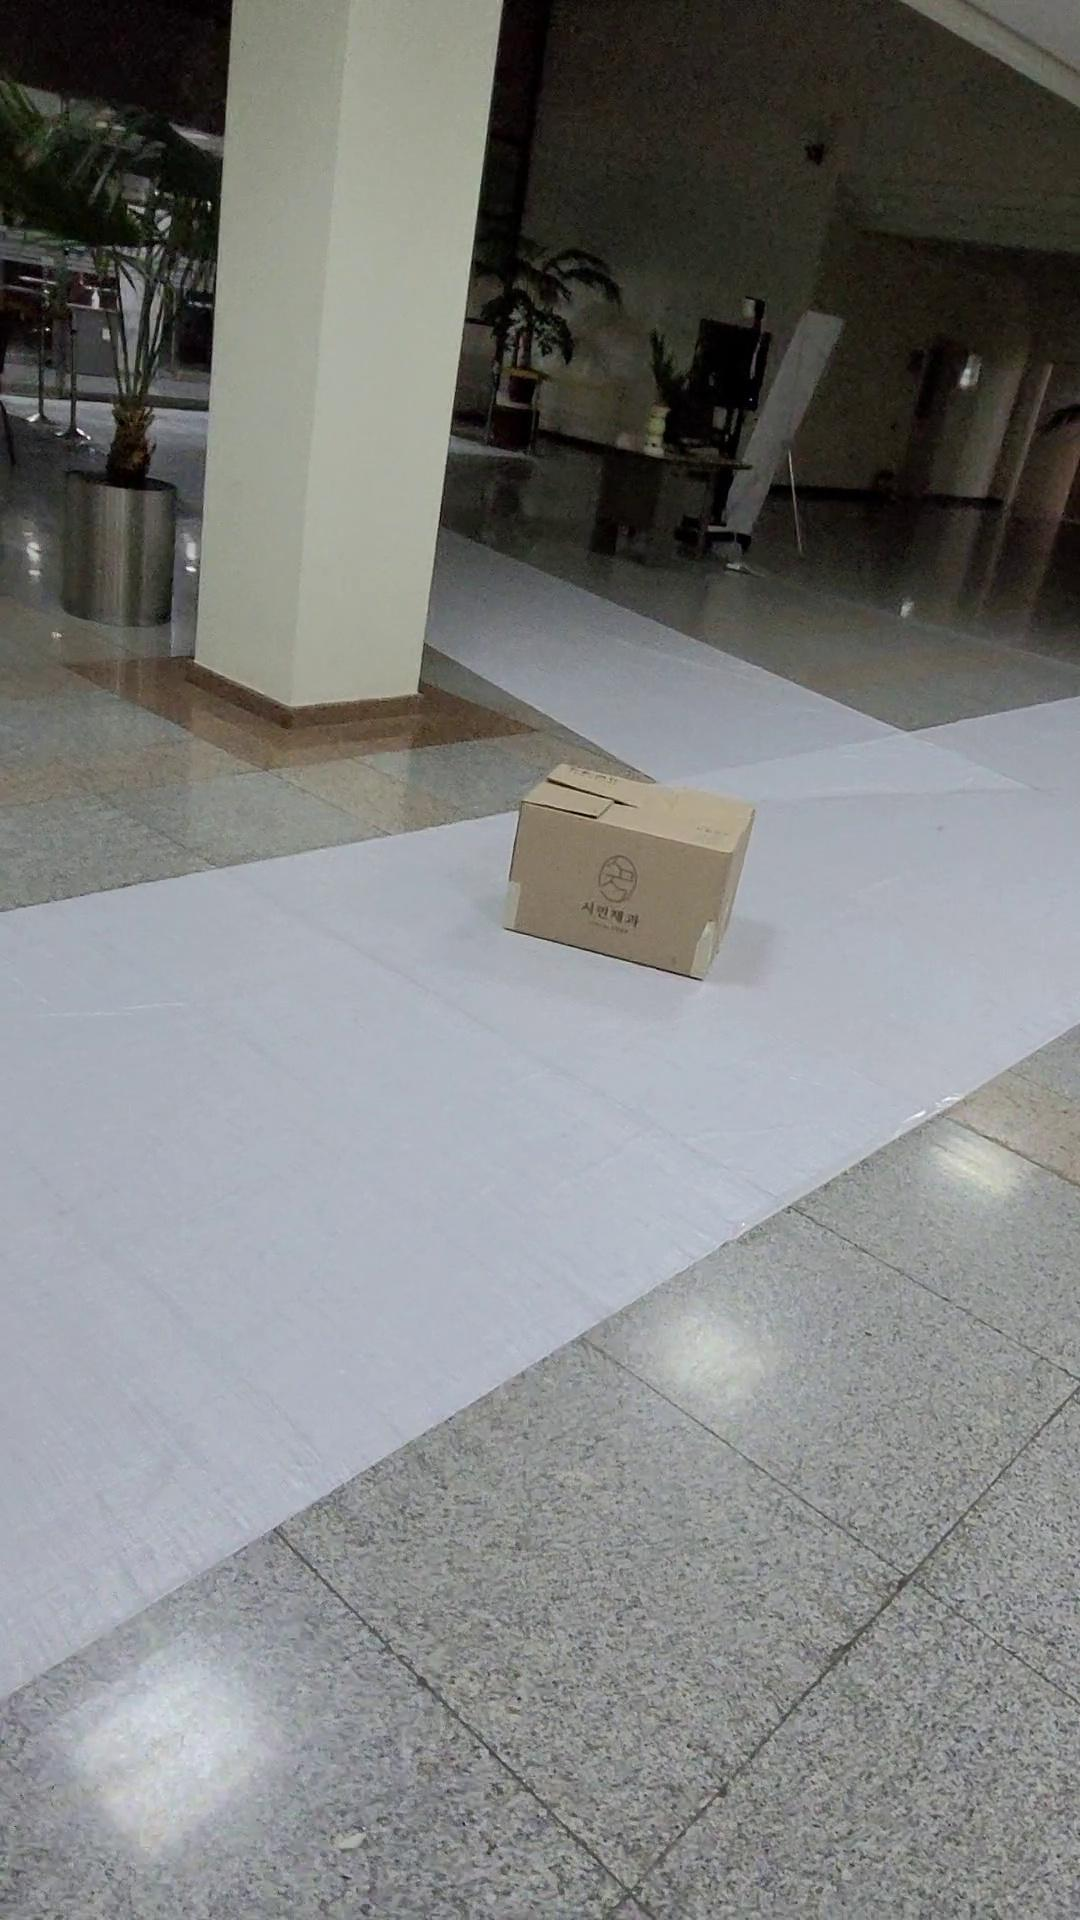Box: (476, 740, 770, 1021)
